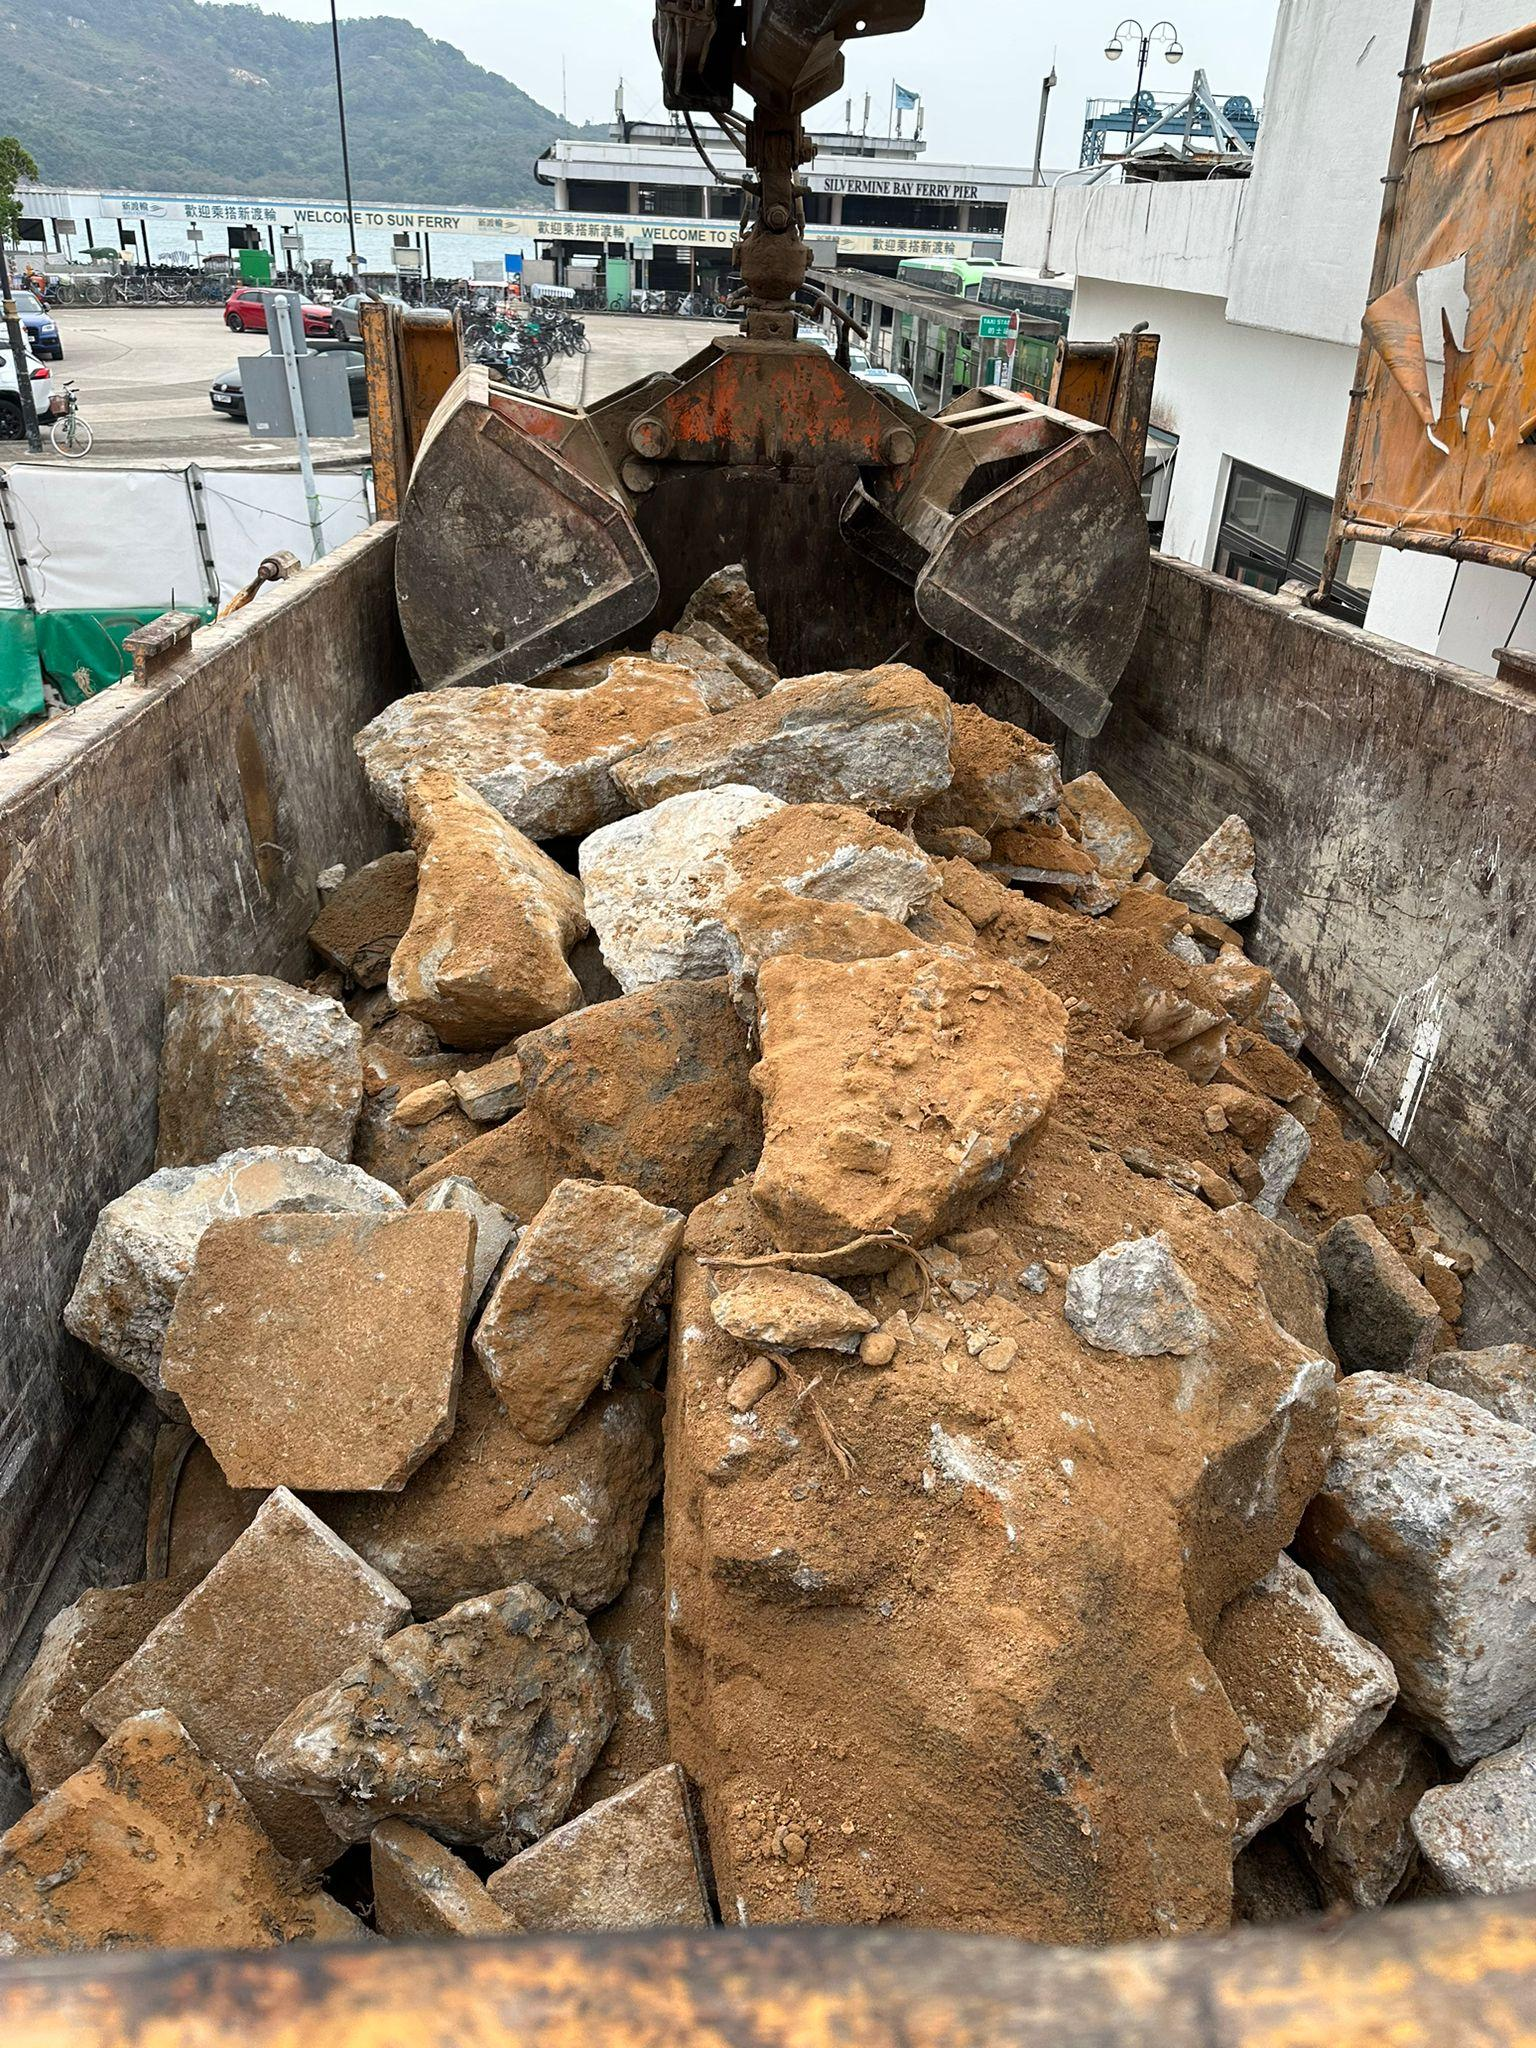dry: (3, 584, 1513, 1959)
